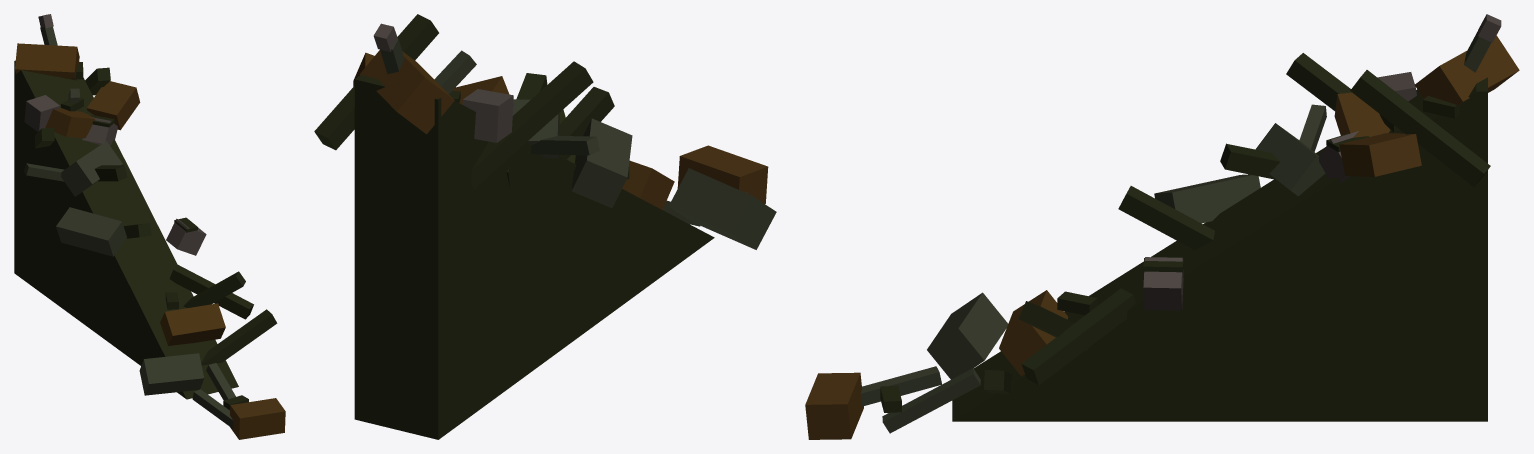
Rendered from SM_PilaZombi_Altura4_s0_LOD0.fbx.
3 renders of one model, left to right at view 1: azimuth 30°, elevation 25°; view 2: azimuth 150°, elevation 25°; view 3: azimuth 270°, elevation 25°, orthographic. The views are drawn at different scales.
Visible parts, largest first — view 1: SM_pila_zombis_v3_LOD0; view 2: SM_pila_zombis_v3_LOD0; view 3: SM_pila_zombis_v3_LOD0.
Boxes of the visible parts, x1=… form: SM_pila_zombis_v3_LOD0: x1=14, y1=14, x2=285, y2=439; SM_pila_zombis_v3_LOD0: x1=314, y1=14, x2=776, y2=439; SM_pila_zombis_v3_LOD0: x1=805, y1=14, x2=1519, y2=439.
Bounding box in the file's own units: 1.45 × 2.53 × 3.97.
